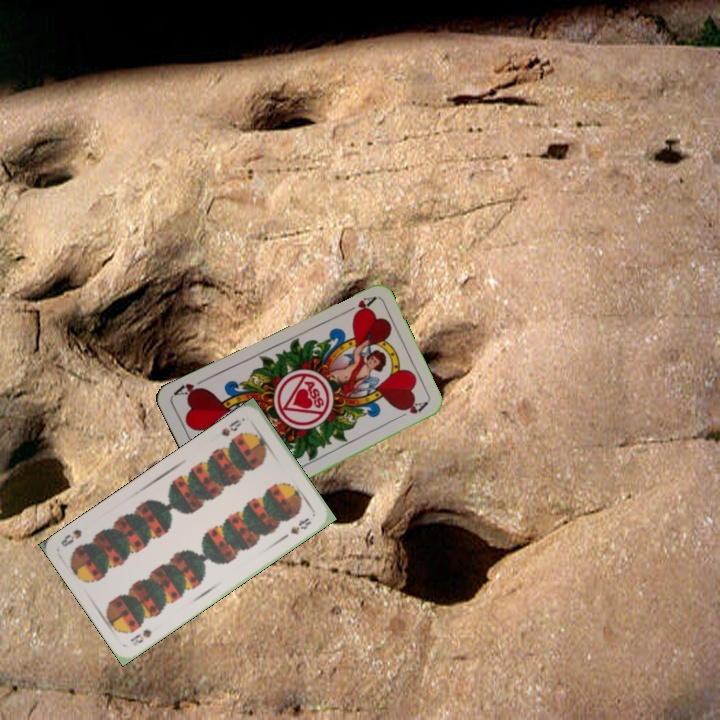HA: (339, 292, 378, 320)
S8: (217, 414, 248, 439), (126, 625, 154, 646)
